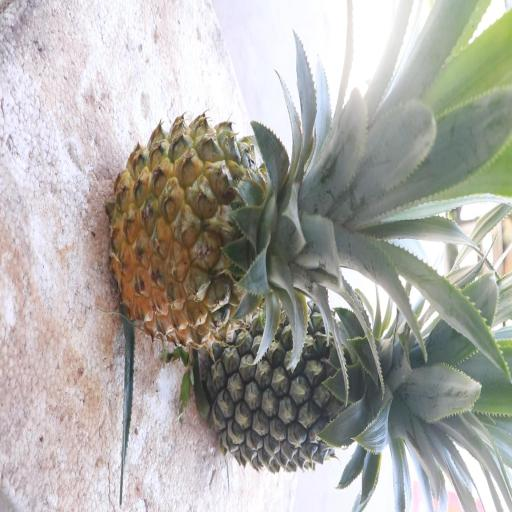Pineapple - v8 v1: (105, 105, 416, 352)
